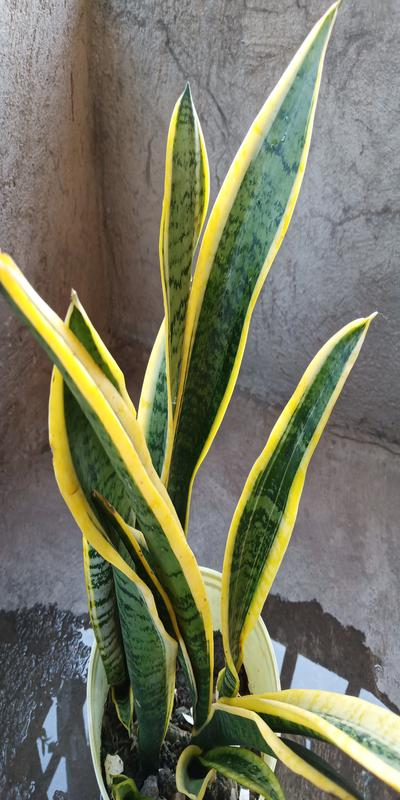Snake plant: (9, 91, 387, 737)
